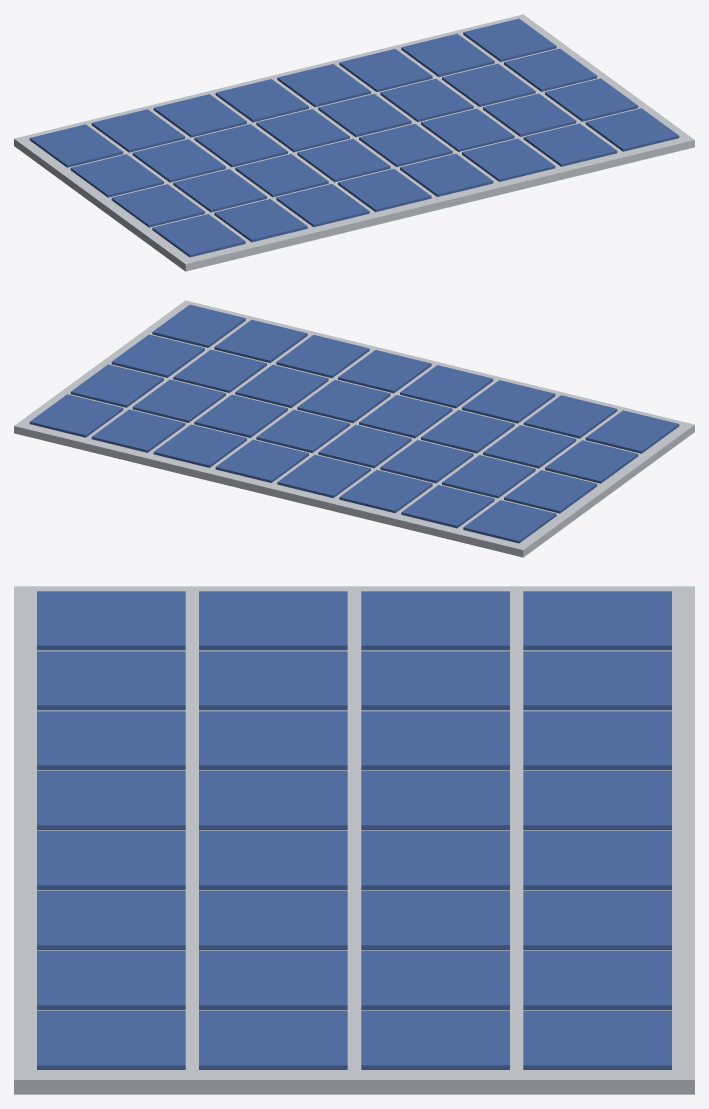
File: solar__array.fbx
3 views of the same model, one above another, from view 1: azimuth 30°, elevation 25°; view 2: azimuth 150°, elevation 25°; view 3: azimuth 270°, elevation 25° (orthographic). The views are drawn at different scales.
Visible parts, largest first — view 1: solar__array; view 2: solar__array; view 3: solar__array.
Part boxes in pixels (x1,y1,x2,y2): solar__array: [14, 14, 694, 271]; solar__array: [14, 300, 694, 557]; solar__array: [14, 586, 694, 1094].
Bounding box in the file's own units: 4.32 × 0.08 × 2.52.
